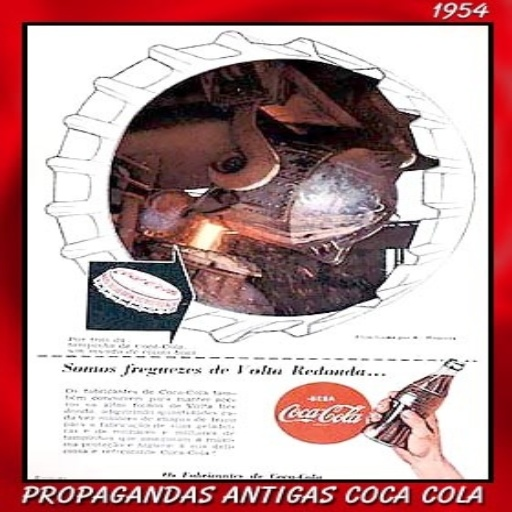hand: (365, 375, 451, 458)
